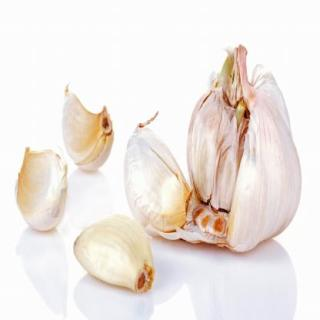Bawang Putih: (188, 47, 302, 253), (124, 121, 193, 239), (74, 216, 156, 296), (17, 148, 70, 234), (62, 88, 115, 173)
